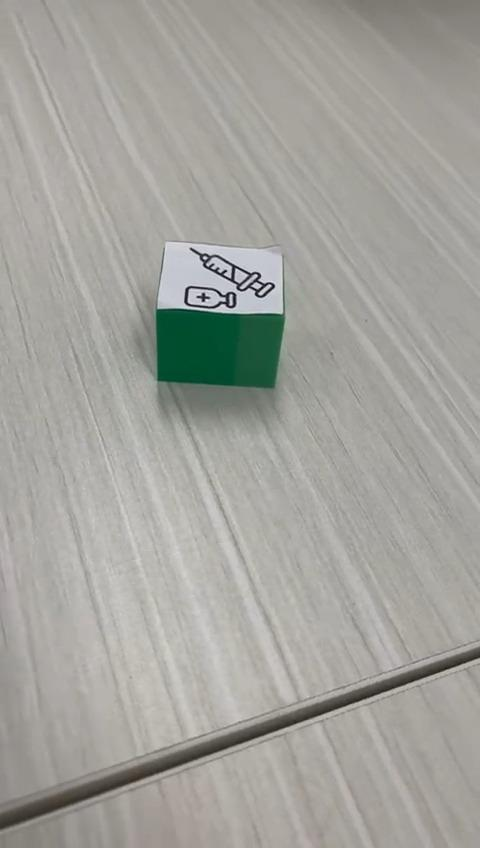antiseptic cream: (154, 239, 286, 389)
